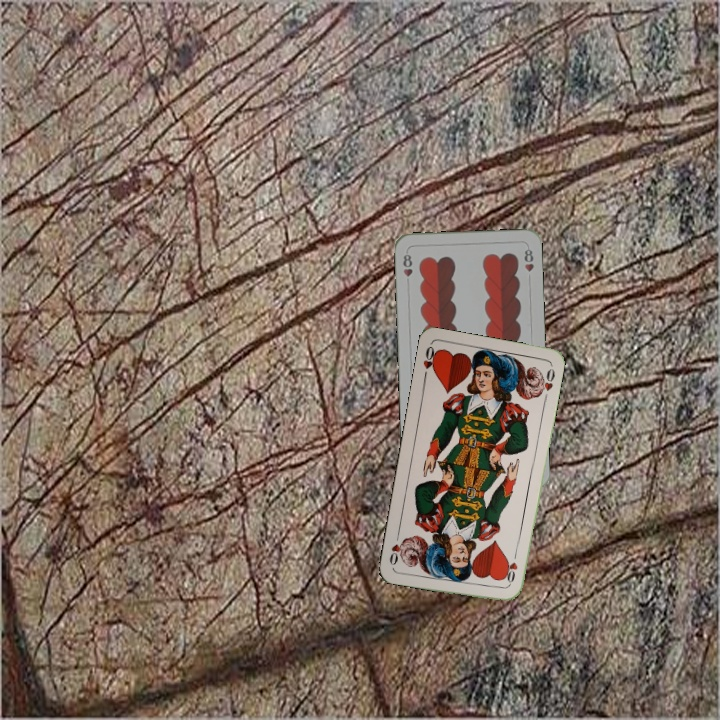H8: (399, 248, 415, 288)
HO: (419, 342, 440, 382), (503, 548, 520, 588)
